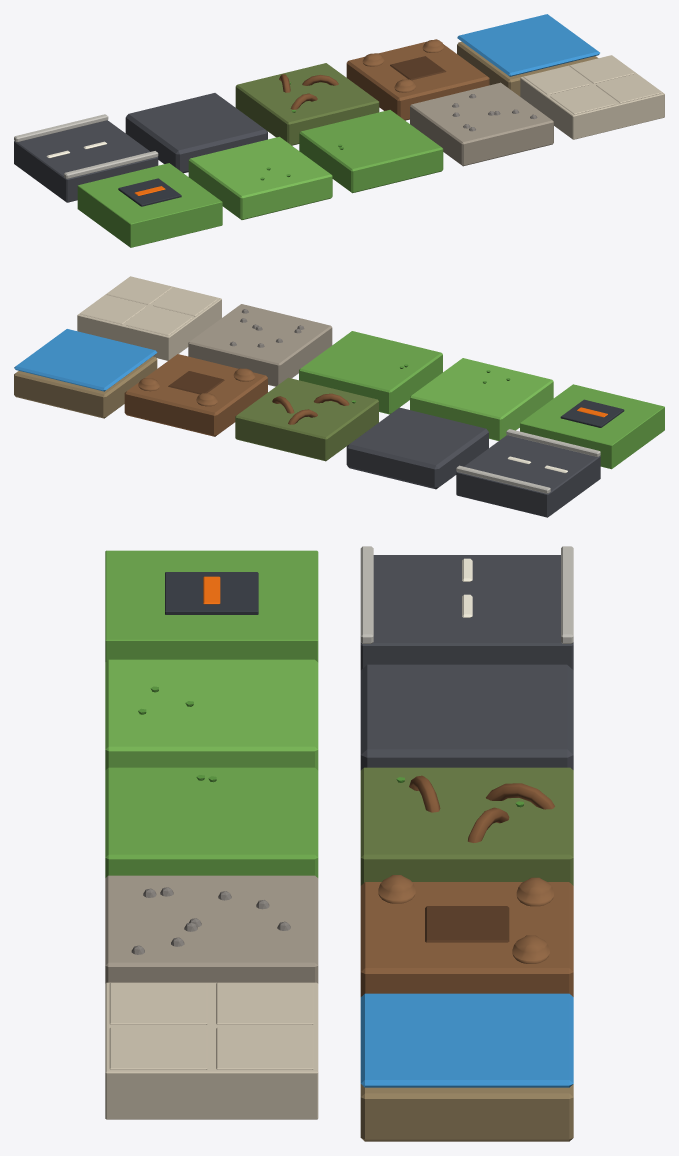
The model's file is ground-tiles.glb.
3 views of the same model, one above another, from view 1: azimuth 30°, elevation 25°; view 2: azimuth 150°, elevation 25°; view 3: azimuth 270°, elevation 25° (orthographic). The views are drawn at different scales.
Parts seen in each view (by area): view 1: tile_conduit, tile_paving, tile_grass_alt, tile_gravel, tile_grass, tile_road, tile_roots, tile_road_plain, tile_trench, tile_water; view 2: tile_road, tile_water, tile_roots, tile_trench, tile_road_plain, tile_paving, tile_gravel, tile_grass, tile_conduit, tile_grass_alt; view 3: tile_water, tile_paving, tile_roots, tile_trench, tile_road, tile_conduit, tile_grass, tile_grass_alt, tile_gravel, tile_road_plain.
Part boxes in pixels (left/top/right/bottom): tile_conduit: left=77, top=163, right=222, bottom=247; tile_paving: left=520, top=55, right=664, bottom=139; tile_grass_alt: left=299, top=110, right=443, bottom=193; tile_gravel: left=410, top=82, right=553, bottom=166; tile_grass: left=188, top=136, right=332, bottom=219; tile_road: left=14, top=114, right=158, bottom=202; tile_roots: left=235, top=63, right=379, bottom=145; tile_road_plain: left=125, top=93, right=267, bottom=173; tile_trench: left=346, top=39, right=489, bottom=120; tile_water: left=457, top=14, right=599, bottom=96; tile_road: left=456, top=429, right=600, bottom=517; tile_water: left=14, top=329, right=157, bottom=418; tile_roots: left=235, top=377, right=378, bottom=461; tile_trench: left=124, top=354, right=267, bottom=436; tile_road_plain: left=346, top=407, right=488, bottom=489; tile_paving: left=77, top=276, right=221, bottom=360; tile_gravel: left=188, top=304, right=332, bottom=386; tile_grass: left=410, top=358, right=553, bottom=440; tile_conduit: left=520, top=384, right=664, bottom=469; tile_grass_alt: left=299, top=331, right=442, bottom=414; tile_water: left=360, top=993, right=573, bottom=1141; tile_paving: left=105, top=982, right=318, bottom=1119; tile_roots: left=360, top=767, right=573, bottom=885; tile_trench: left=360, top=875, right=573, bottom=996; tile_road: left=360, top=546, right=573, bottom=669; tile_conduit: left=105, top=550, right=318, bottom=662; tile_grass: left=105, top=659, right=318, bottom=770; tile_grass_alt: left=105, top=767, right=318, bottom=877; tile_gravel: left=105, top=875, right=318, bottom=983; tile_road_plain: left=360, top=664, right=573, bottom=770.
Bounding box in the file's own units: 5.8 × 0.4621 × 2.2.
